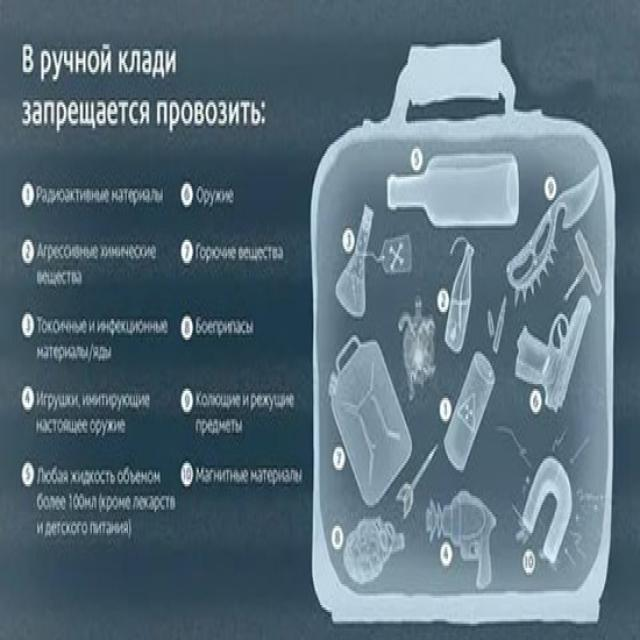grenade: (384, 140, 522, 230), (438, 236, 482, 350), (342, 516, 406, 588)
knife: (506, 164, 600, 300)
pistol: (516, 296, 590, 413), (425, 491, 499, 589)
